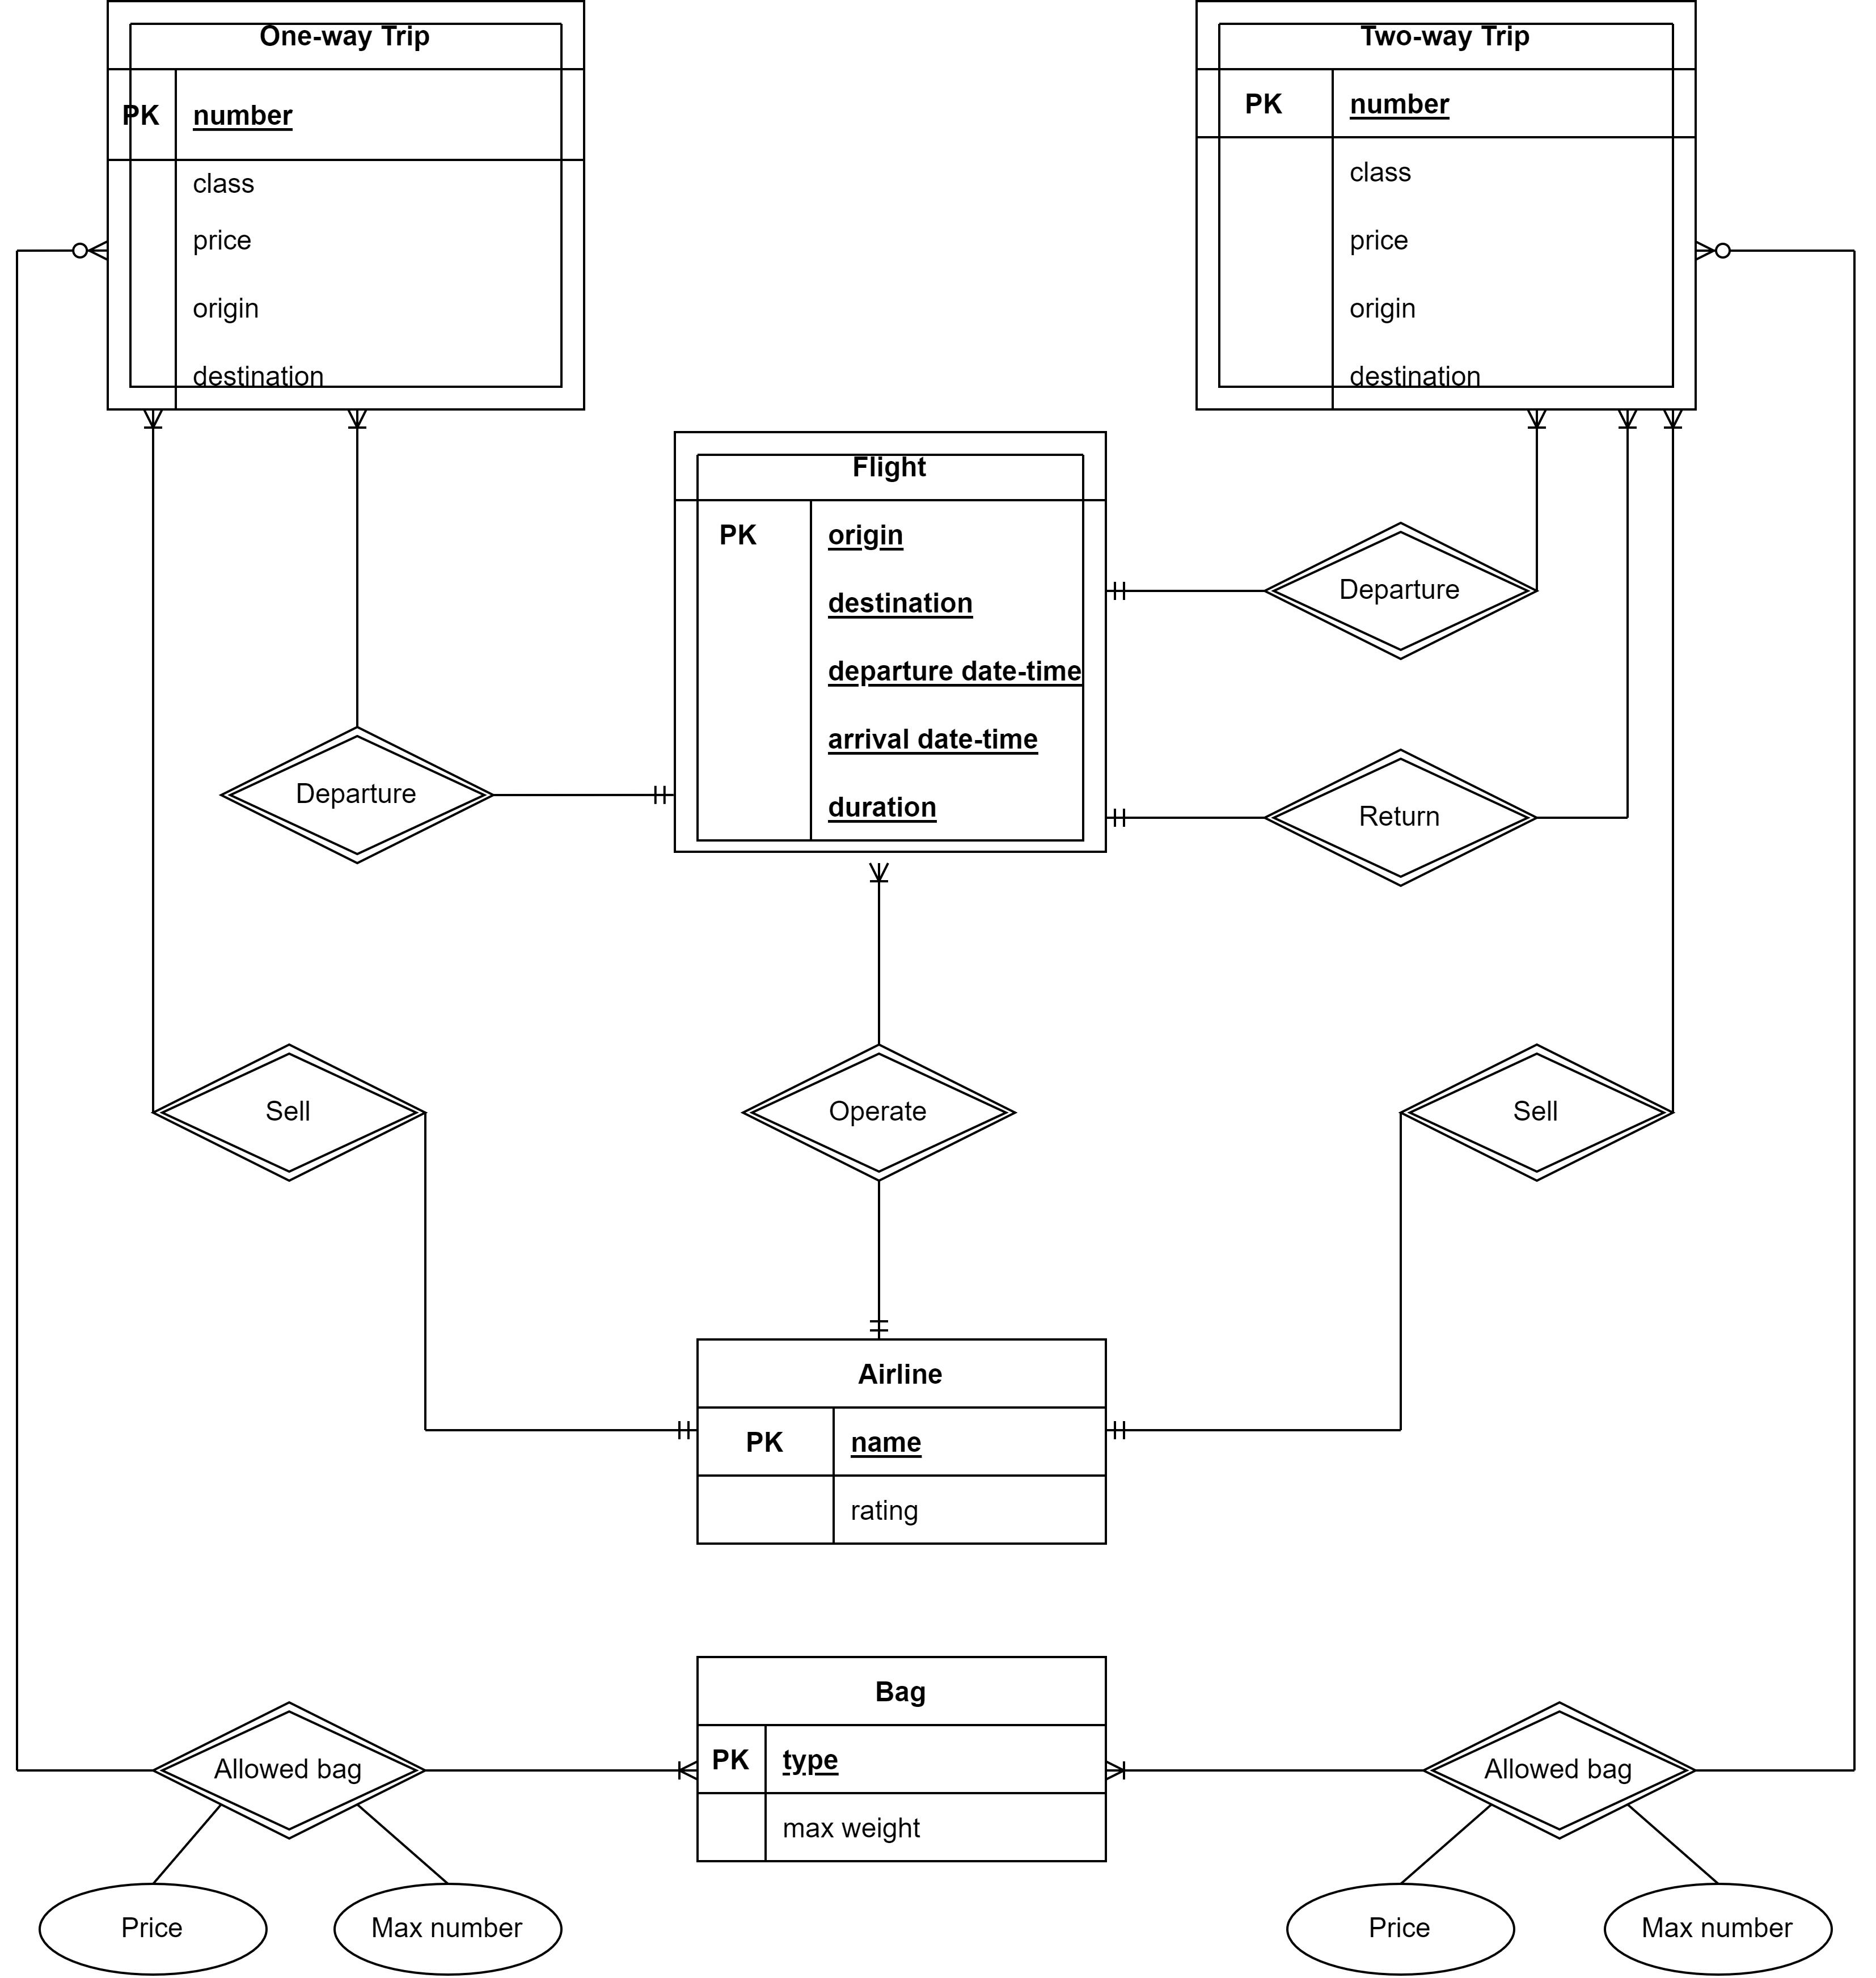attribute: (1597, 1883, 1837, 1978), (333, 1881, 564, 1978), (1282, 1883, 1516, 1978), (42, 1883, 264, 1978)
entity: (689, 1331, 1114, 1558), (695, 1650, 1114, 1872)
weakentity: (1188, 0, 1700, 420), (99, 0, 591, 425), (668, 428, 1114, 859)
weakrelationship: (732, 1035, 1010, 1183), (1402, 1045, 1677, 1188), (1257, 522, 1537, 661), (159, 1042, 427, 1183), (213, 732, 488, 866), (1269, 751, 1537, 887), (152, 1703, 427, 1835), (1423, 1707, 1696, 1837)
